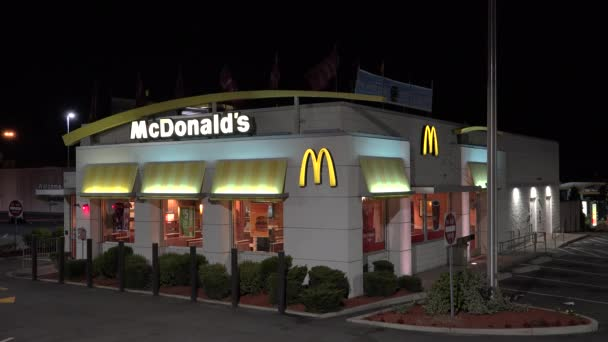mcdonalds: (295, 146, 340, 195), (420, 124, 445, 163)
